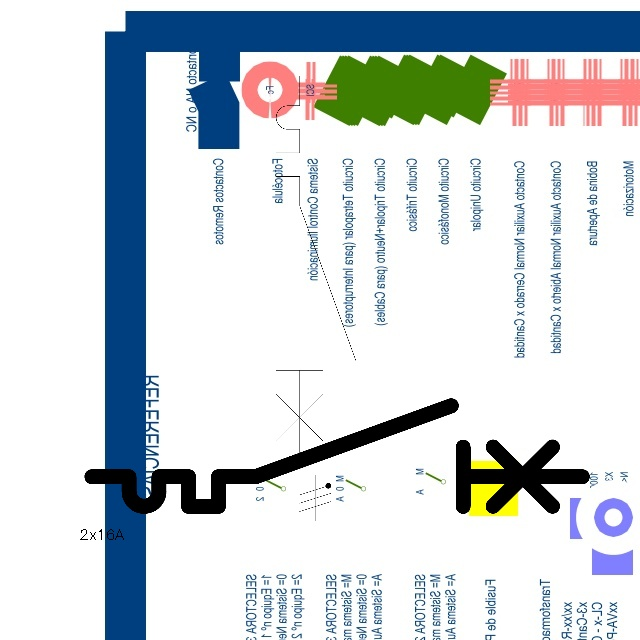interruptor_termomagnetico: (79, 393, 595, 519), (266, 66, 366, 475)
